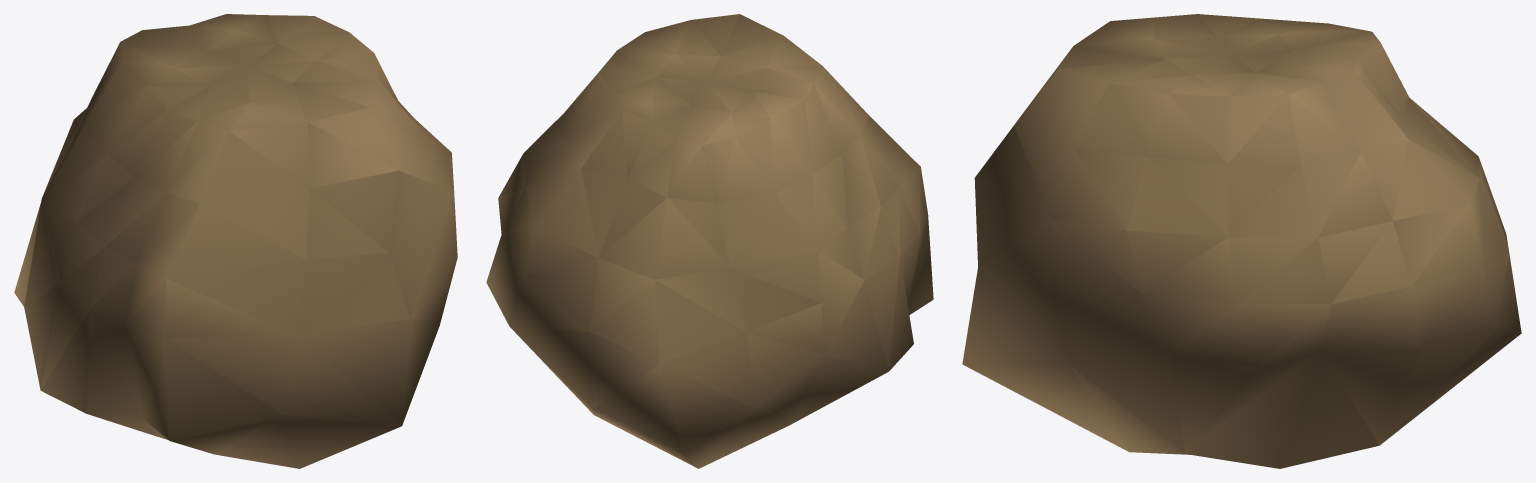
Rendered from SandChunk.001.glb.
3 renders of one model, left to right at view 1: azimuth 30°, elevation 25°; view 2: azimuth 150°, elevation 25°; view 3: azimuth 270°, elevation 25°, orthographic. The views are drawn at different scales.
Visible parts, largest first — view 1: SandChunk.001; view 2: SandChunk.001; view 3: SandChunk.001.
Part boxes in pixels (box(x1,y1,x2,y2)): SandChunk.001: box(14, 14, 457, 468); SandChunk.001: box(486, 14, 933, 468); SandChunk.001: box(962, 14, 1521, 468).
Bounding box in the file's own units: 5.55 × 5.29 × 6.25.
